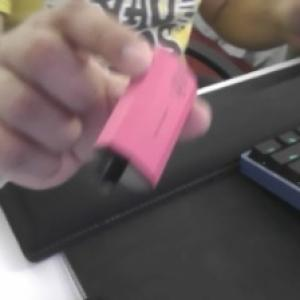Blume-E-Ciggirate: (89, 47, 202, 198)
